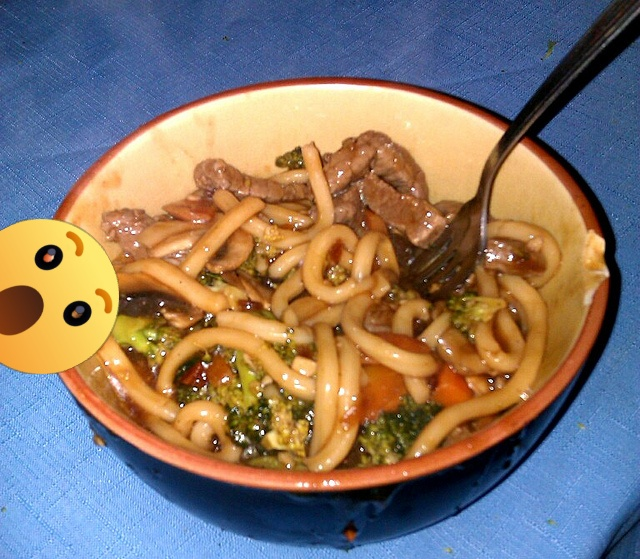wow: (0, 219, 119, 374)
